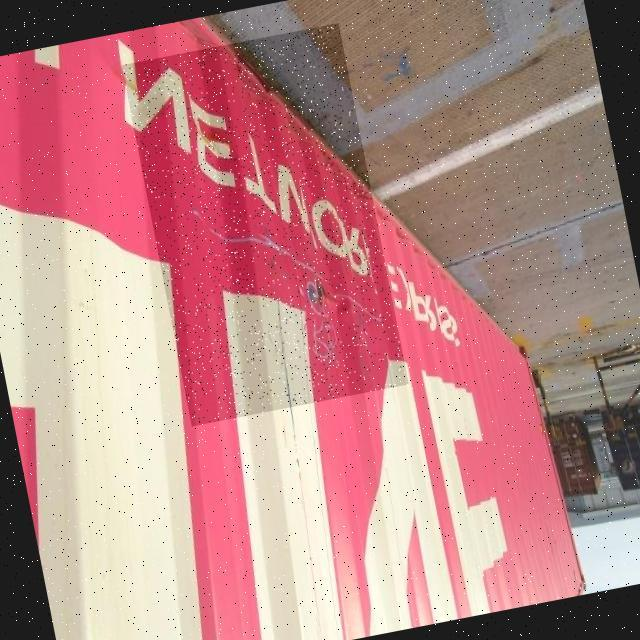Dent: (122, 23, 409, 426)
